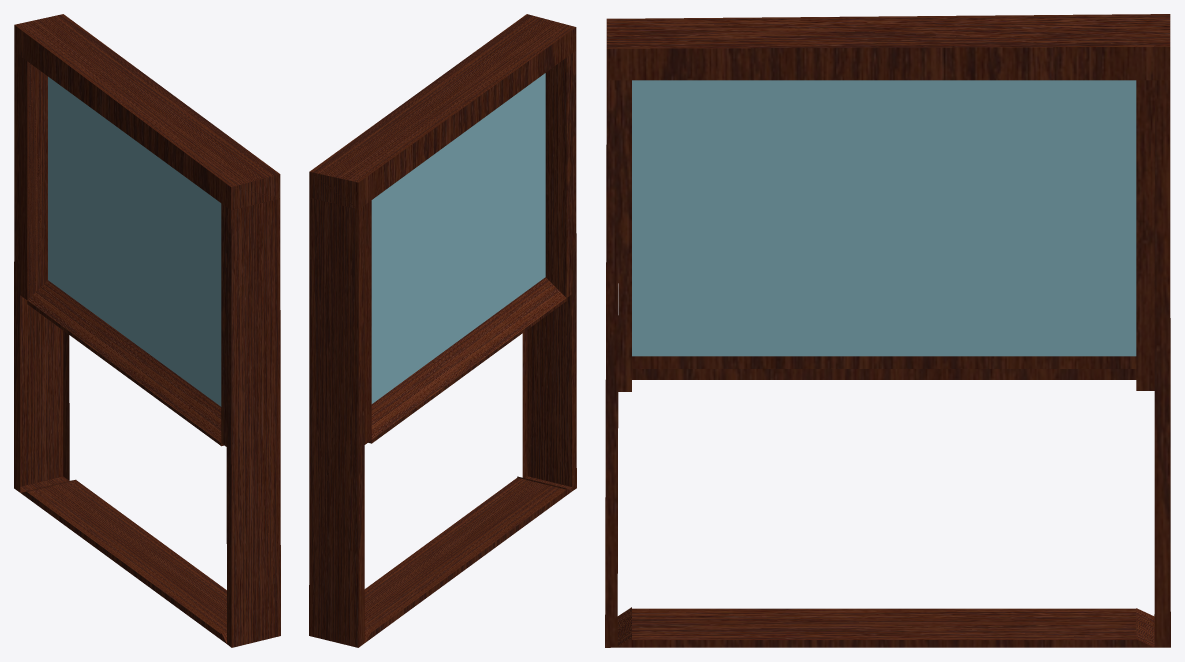
File: ventana.fbx
3 renders of one model, left to right at view 1: azimuth 30°, elevation 25°; view 2: azimuth 150°, elevation 25°; view 3: azimuth 270°, elevation 25°, orthographic. The views are drawn at different scales.
Parts seen in each view (by area): view 1: Cube, Cube.001; view 2: Cube, Cube.001; view 3: Cube.001, Cube.
Part boxes in pixels (x1,y1,x2,y2): Cube: (14,14,280,647); Cube.001: (48,76,221,406); Cube: (309,14,576,647); Cube.001: (371,73,545,403); Cube.001: (632,80,1136,356); Cube: (605,14,1170,647).
Size of the model in its own units: 68.98 by 622 by 529.
